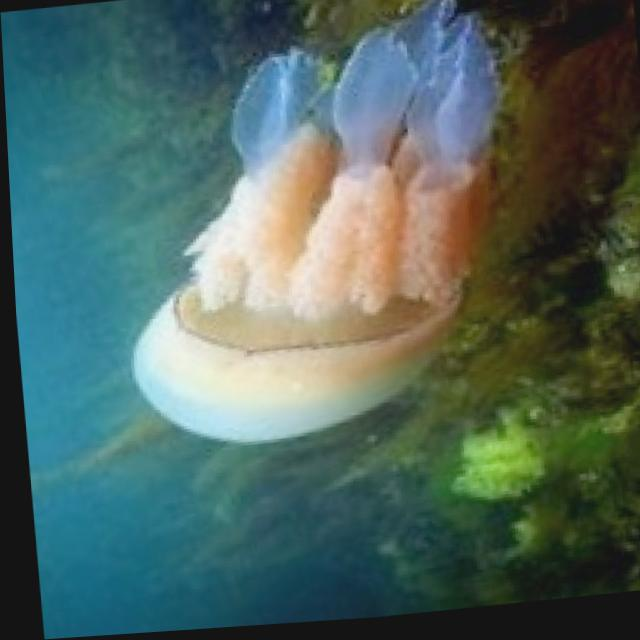Box-jellyfish: (97, 0, 526, 457)
